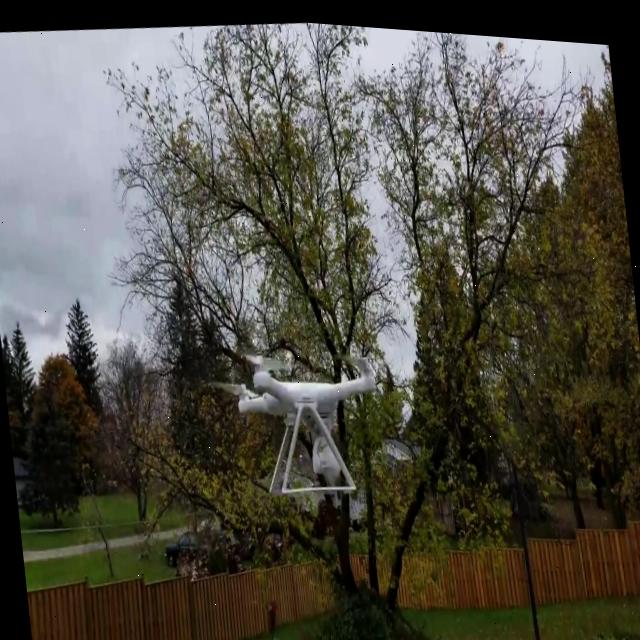drone: (176, 290, 427, 539)
